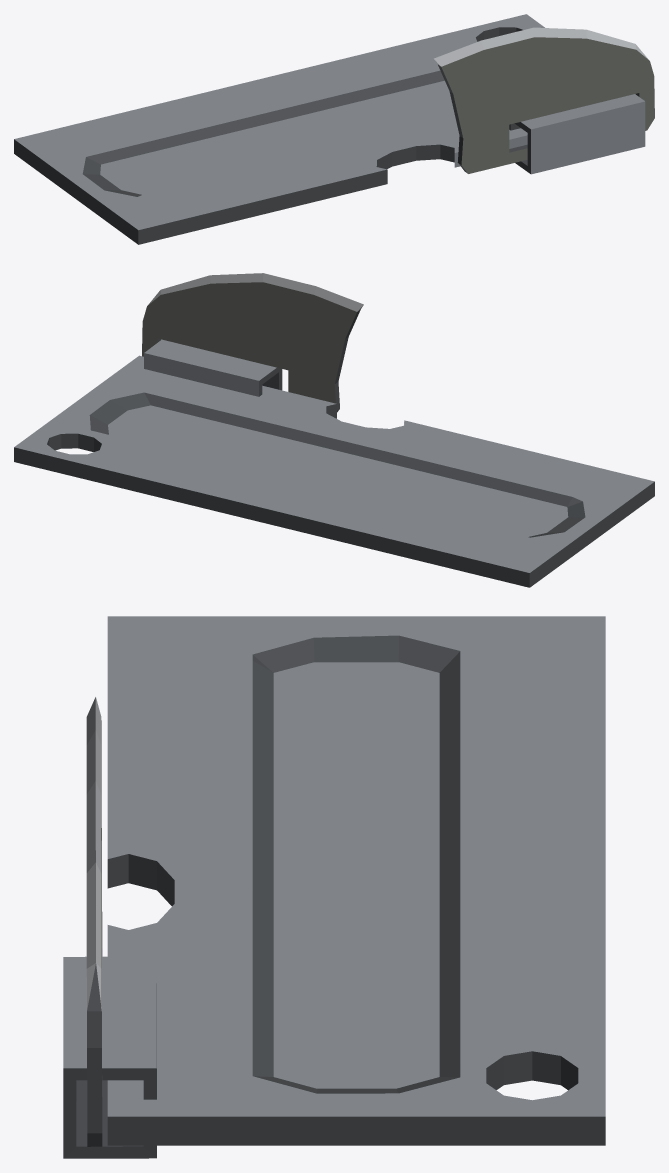
File: WorldItem_ArmyCanOpener.fbx
3 renders of one model, top to bottom at view 1: azimuth 30°, elevation 25°; view 2: azimuth 150°, elevation 25°; view 3: azimuth 270°, elevation 25°, orthographic. The views are drawn at different scales.
Visible parts, largest first — view 1: ZomboidArmyCanOpener; view 2: ZomboidArmyCanOpener; view 3: ZomboidArmyCanOpener.
Part boxes in pixels (bbox=[...]): ZomboidArmyCanOpener: bbox=[14, 14, 654, 244]; ZomboidArmyCanOpener: bbox=[14, 273, 654, 587]; ZomboidArmyCanOpener: bbox=[63, 616, 605, 1158].
Size of the model in its own units: 0.0699 by 0.018 by 0.032.
